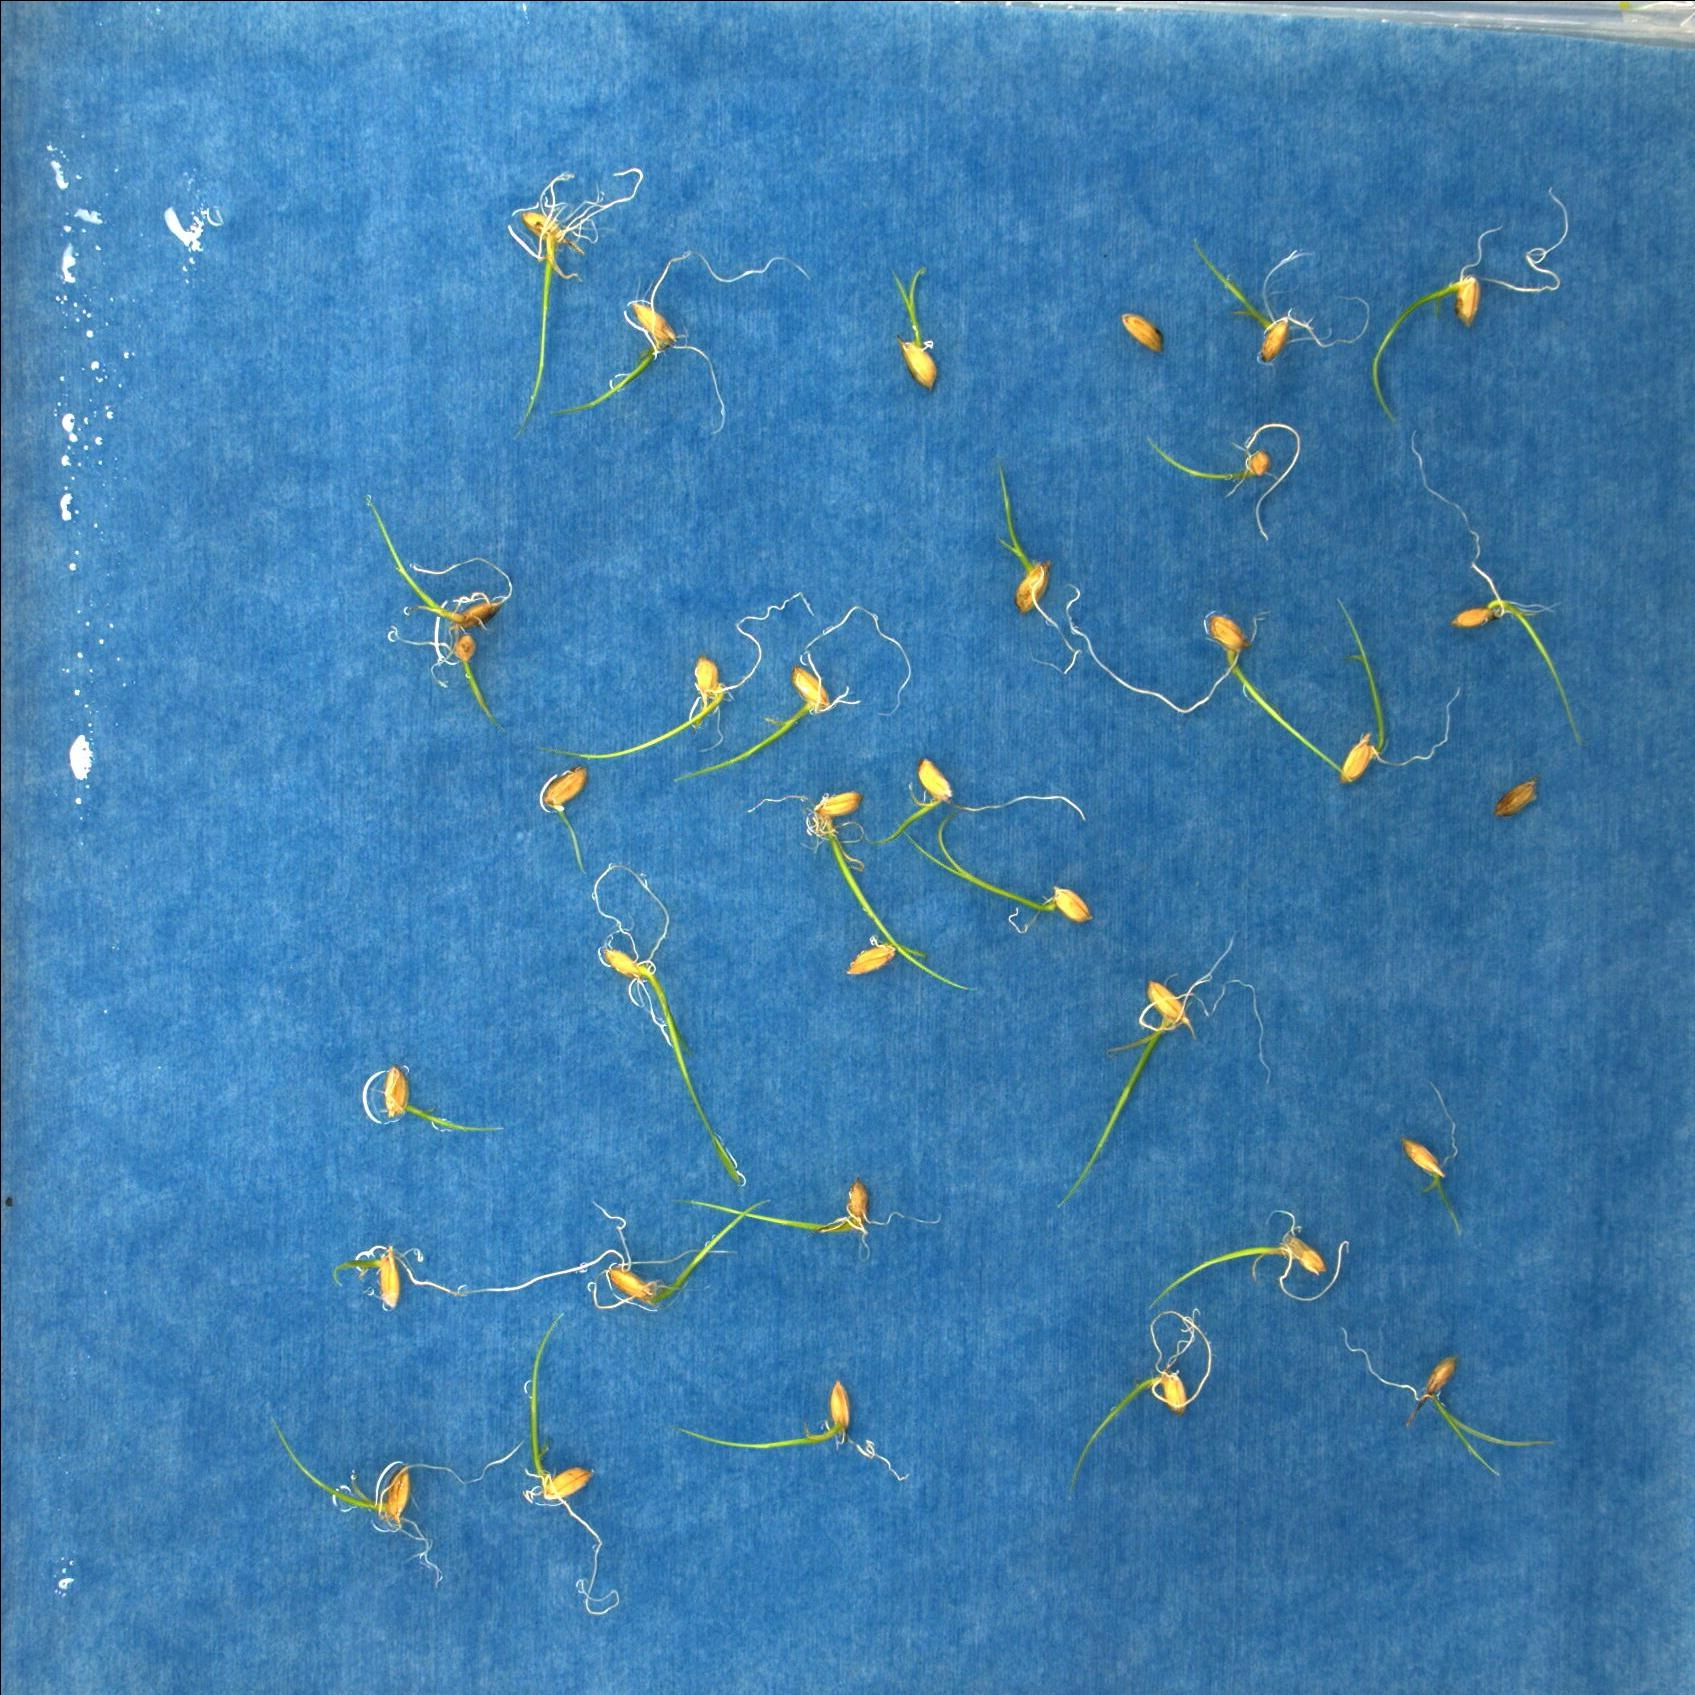not sprout: (1122, 306, 1164, 355), (1493, 778, 1538, 816)
sprout: (1052, 934, 1274, 1217), (1065, 584, 1357, 792), (1405, 433, 1583, 747), (557, 230, 809, 449), (593, 861, 747, 1192), (495, 133, 655, 435), (747, 787, 976, 995), (1374, 186, 1568, 425), (549, 588, 816, 761), (265, 1412, 525, 1588), (667, 602, 914, 784), (1336, 1322, 1555, 1479), (522, 1315, 622, 1620), (1125, 404, 1305, 553), (1068, 1313, 1212, 1489), (1332, 596, 1465, 781), (1191, 233, 1372, 365), (896, 813, 1096, 933), (681, 1378, 911, 1482), (587, 1198, 771, 1319), (1146, 1209, 1350, 1312), (363, 497, 512, 632), (334, 1243, 624, 1312), (688, 1183, 942, 1259), (997, 463, 1080, 677), (380, 602, 490, 725), (380, 1062, 509, 1135), (1405, 1083, 1464, 1240), (879, 261, 945, 394), (875, 764, 958, 851), (545, 767, 588, 879), (854, 938, 927, 979)
